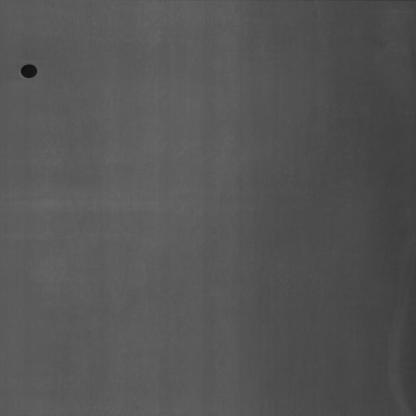punching_hole: (17, 58, 40, 84)
